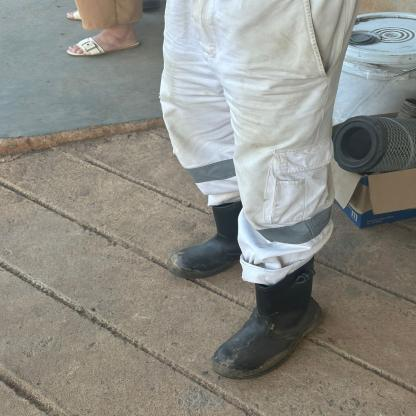bota: (211, 259, 325, 381), (167, 197, 244, 275)
